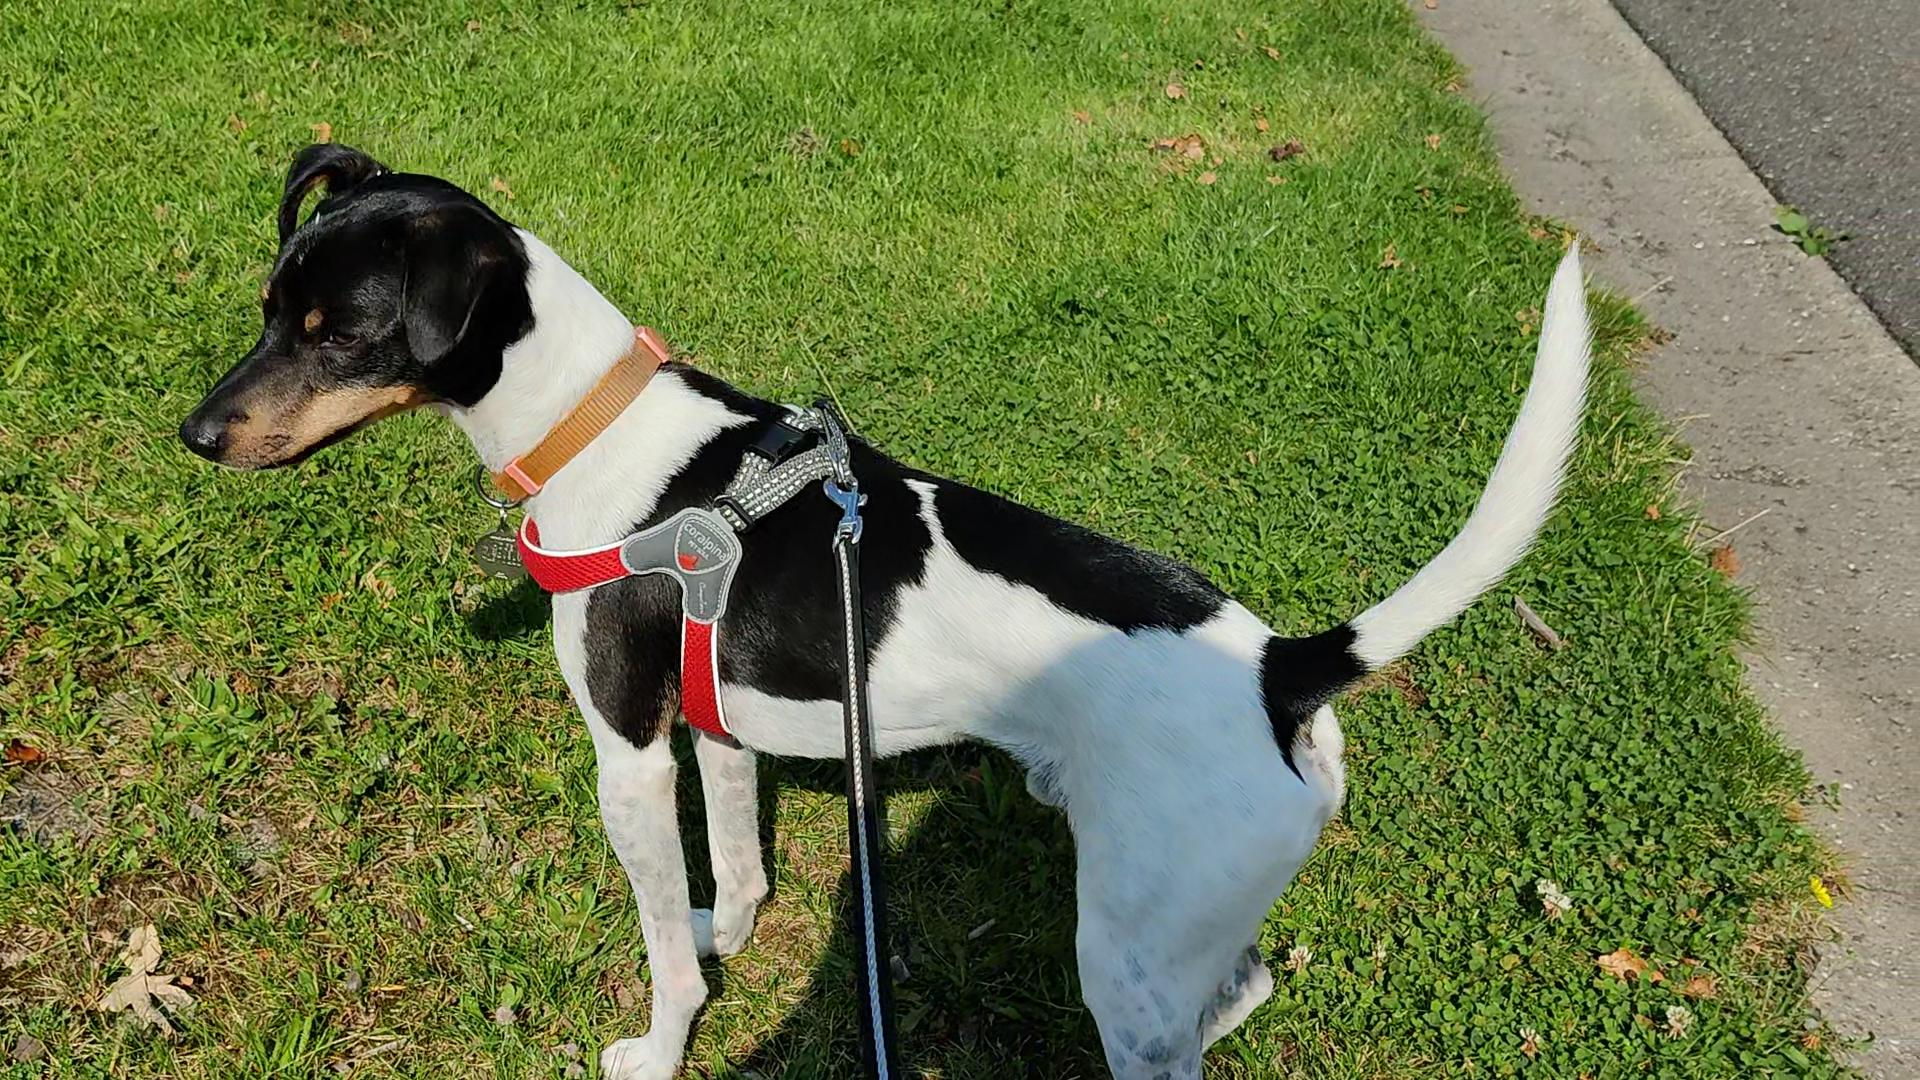Dog: (171, 109, 1610, 1079)
